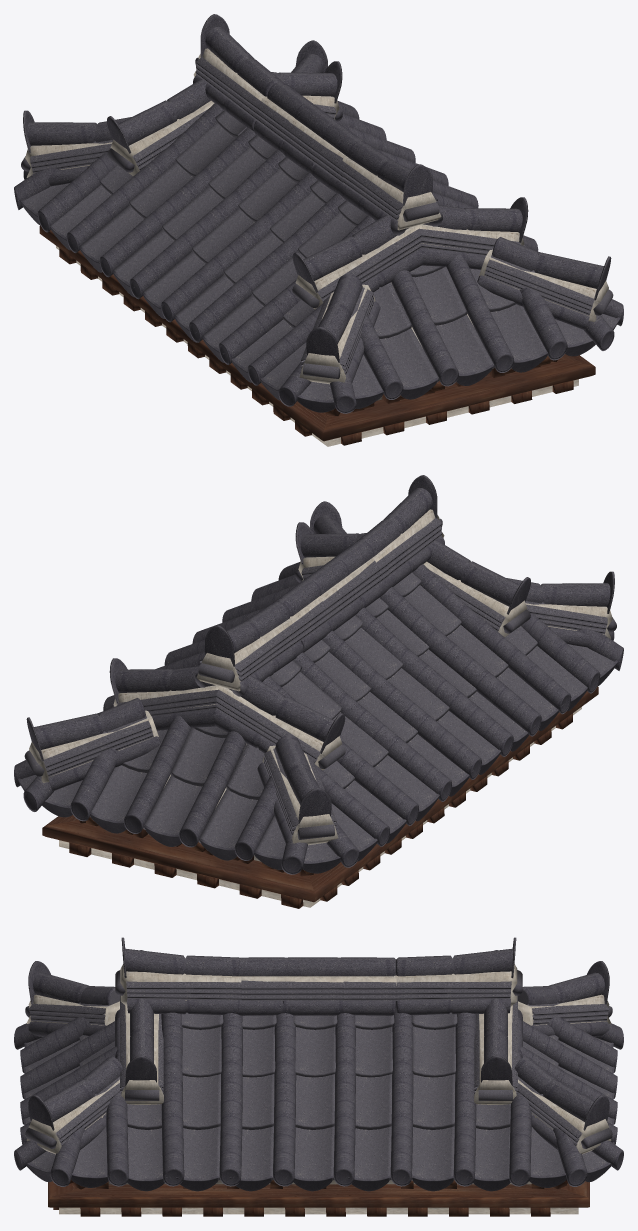
The model's file is SM_R_GateNaknamheon.fbx.
The picture shows the model from 3 angles, top to bottom: view 1: azimuth 30°, elevation 25°; view 2: azimuth 150°, elevation 25°; view 3: azimuth 270°, elevation 25°; orthographic projection. The views are drawn at different scales.
Parts seen in each view (by area): view 1: SM_R_GateNaknamheon; view 2: SM_R_GateNaknamheon; view 3: SM_R_GateNaknamheon.
Boxes of the visible parts, x1,y1,x2,y2 form: SM_R_GateNaknamheon: (14,14,623,446); SM_R_GateNaknamheon: (14,475,623,908); SM_R_GateNaknamheon: (14,937,623,1216).
Size of the model in its own units: 249 by 402 by 158.
Materials: 4 (4 with a texture image).
